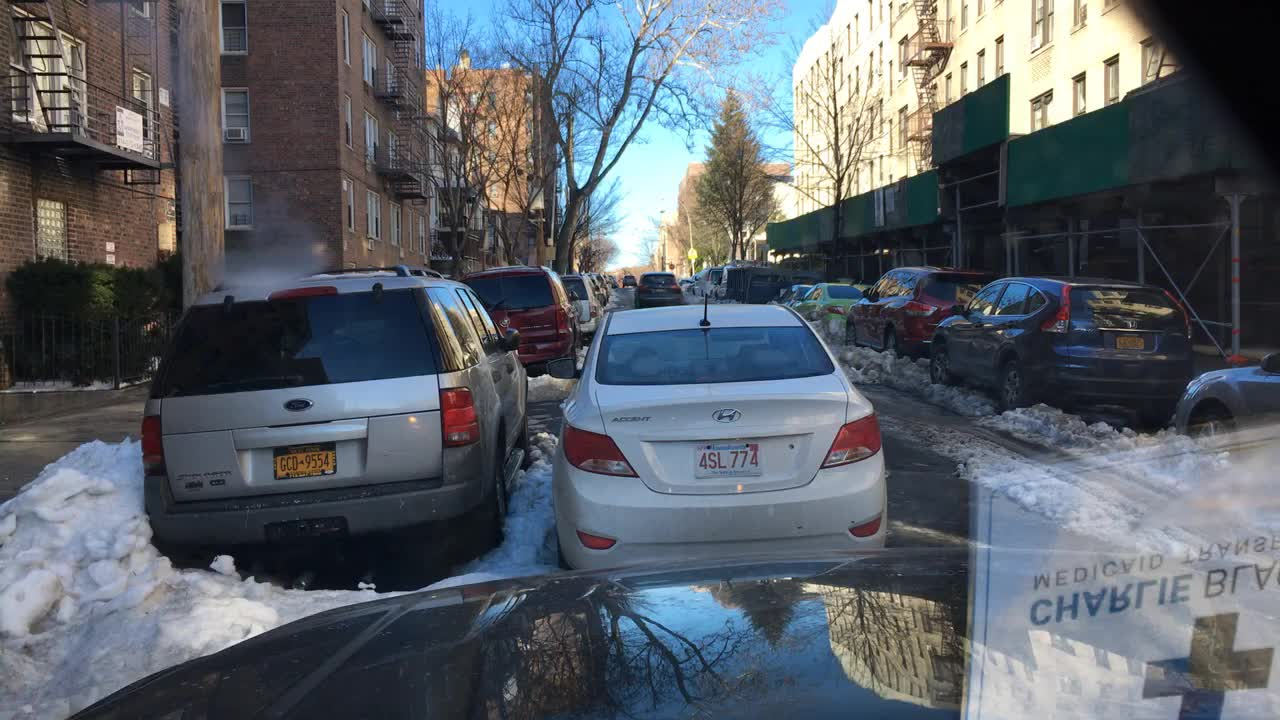car: (142, 264, 530, 579), (555, 304, 889, 565), (931, 278, 1191, 425), (845, 269, 1006, 359), (1170, 352, 1279, 479), (455, 266, 579, 374), (716, 269, 826, 304), (558, 273, 604, 343), (796, 287, 866, 327), (632, 273, 686, 306), (775, 283, 814, 310), (579, 271, 602, 315), (705, 269, 724, 299), (689, 268, 707, 299), (595, 273, 611, 303), (621, 273, 639, 287), (639, 402, 651, 422), (609, 275, 621, 290)
